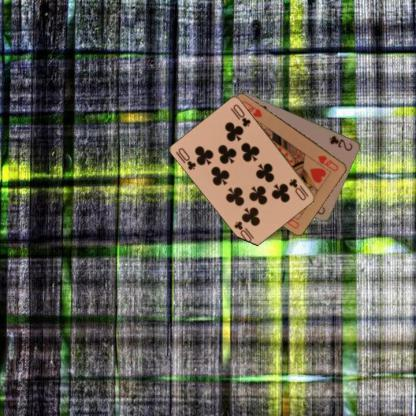10c: (287, 176, 310, 202), (176, 145, 198, 172)
2c: (327, 133, 354, 152)
Qh: (315, 152, 340, 172)
